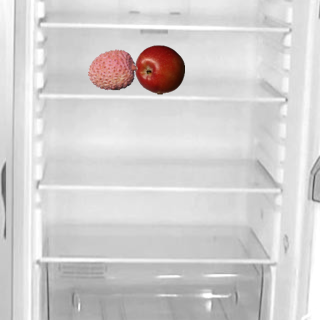Apple Braeburn: (134, 44, 184, 94)
Lychee: (87, 44, 137, 94)
